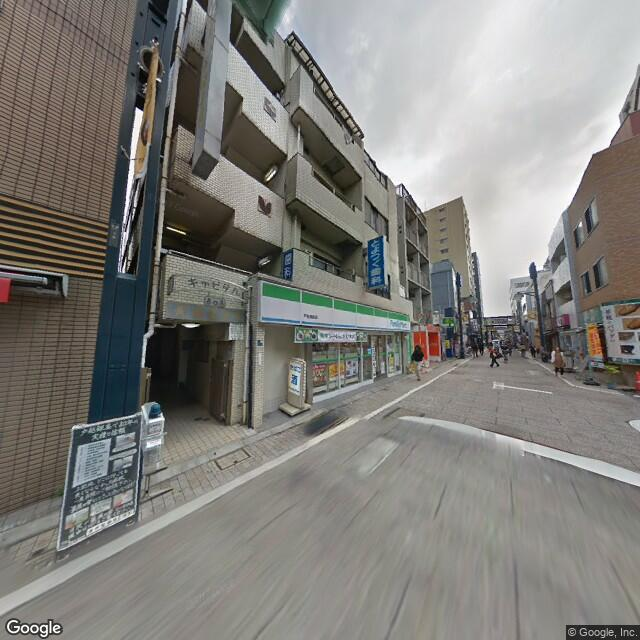family_mart: (258, 279, 414, 336)
